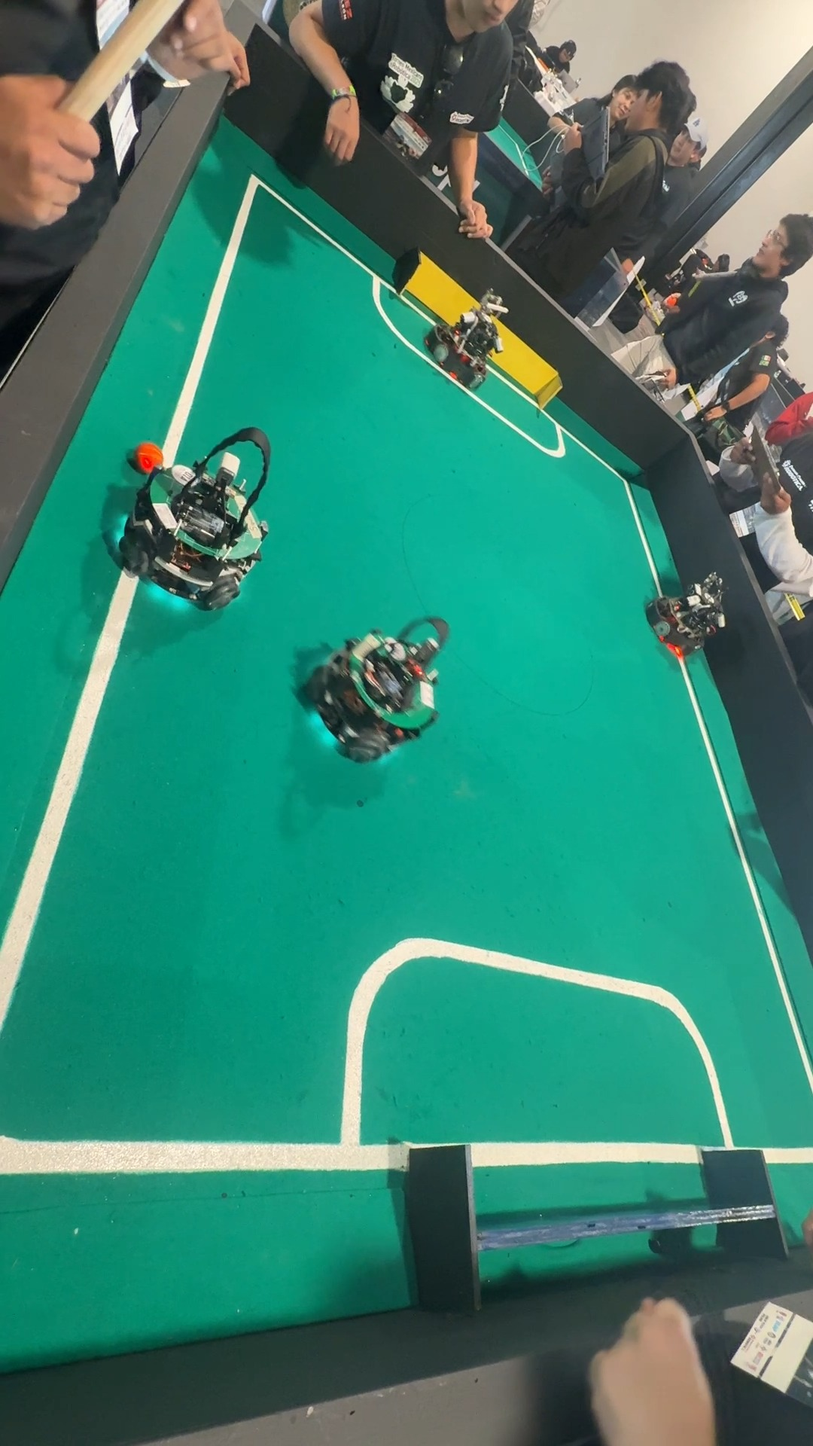Robot: (110, 406, 274, 629), (292, 594, 445, 775), (429, 280, 510, 394), (640, 567, 723, 670)
